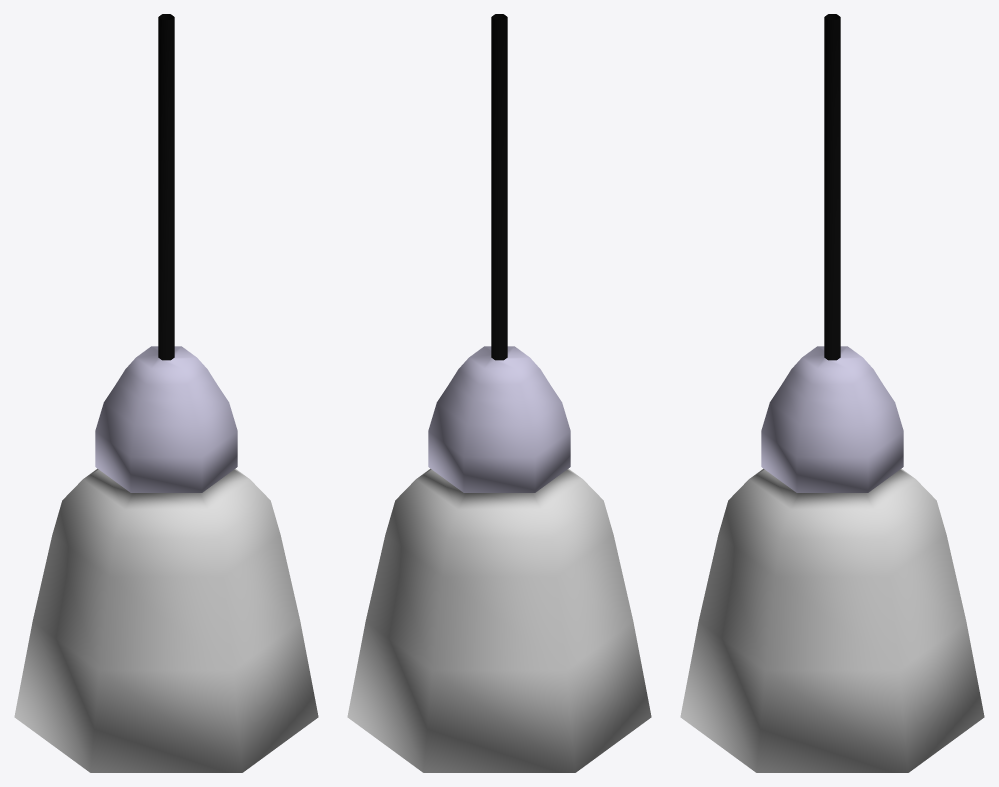
Rendered from ThinLight.fbx.
3 views of the same model, side by side, from view 1: azimuth 30°, elevation 25°; view 2: azimuth 150°, elevation 25°; view 3: azimuth 270°, elevation 25° (orthographic).
Visible parts, largest first — view 1: ThinLight; view 2: ThinLight; view 3: ThinLight.
Part boxes in pixels (left/top/right/bottom): ThinLight: left=14, top=14, right=318, bottom=772; ThinLight: left=347, top=14, right=651, bottom=772; ThinLight: left=680, top=14, right=984, bottom=772.
Bounding box in the file's own units: 56.66 × 169 × 65.42.
